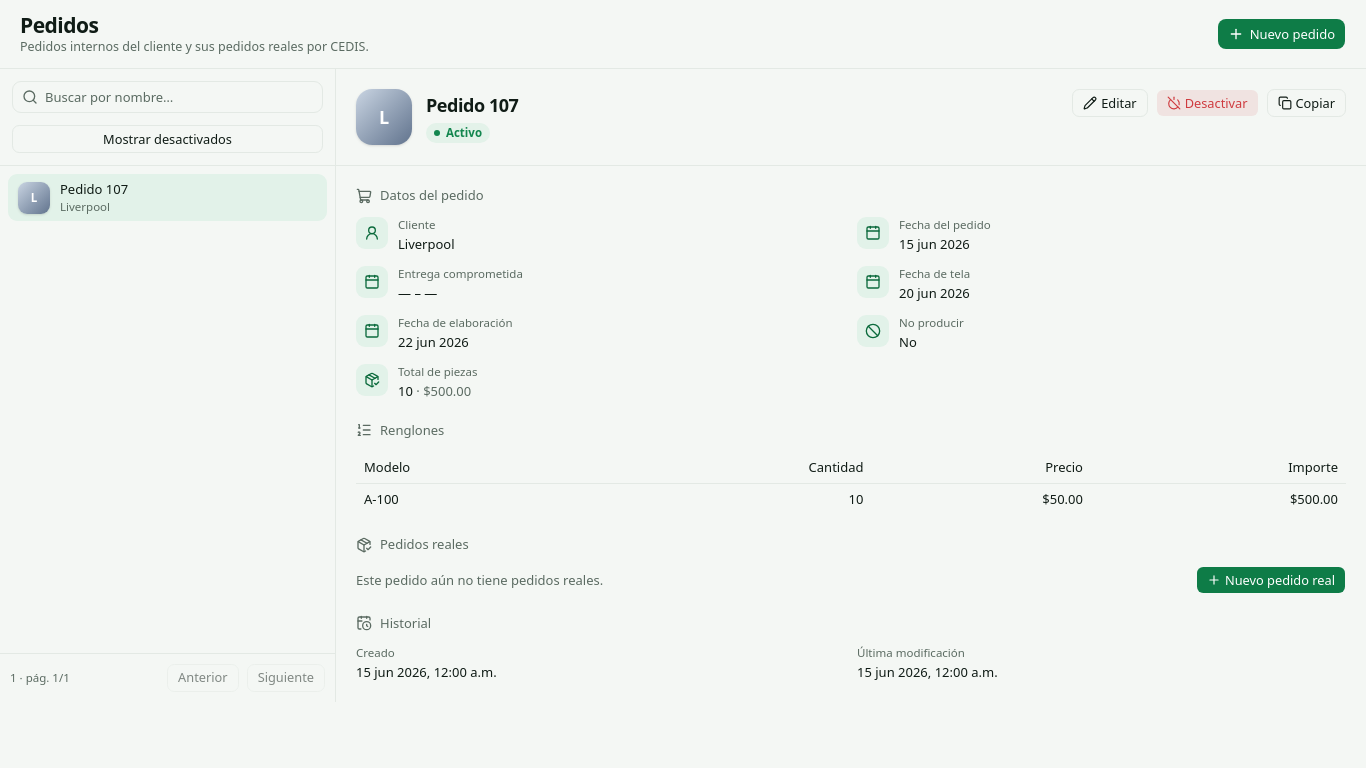
Test case: <PedidosPagina> › ⭐ cancelar dice la verdad sobre las OPs (V1-E4) › avisa que cancelar NO detiene las órdenes de producción
The image size is (1366, 768).
Click the button with test id "desactivar-pedido".
click(1207, 103)  # box x1=1156 y1=89 x2=1258 y2=117
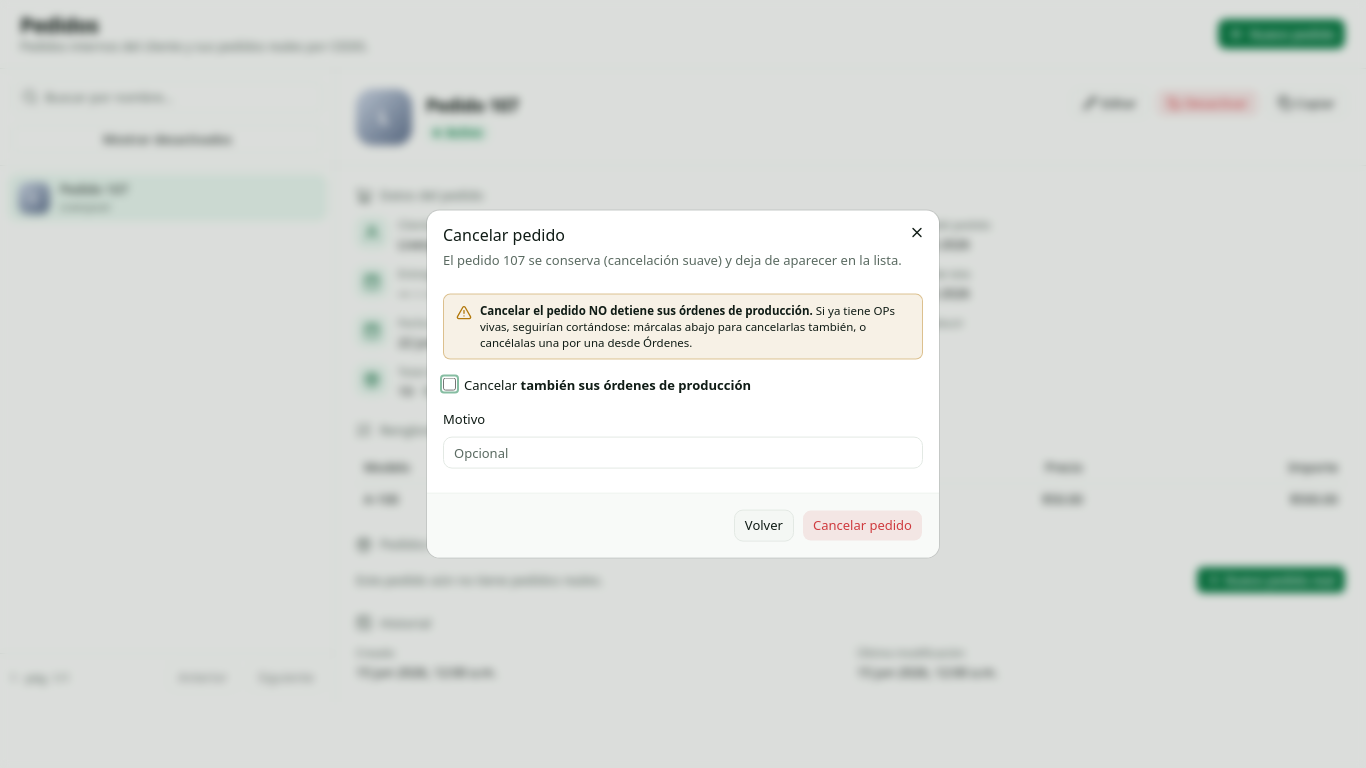
Expected: the dialog shows "NO detiene sus órdenes de producción", x1=480 y1=302 x2=813 y2=317
